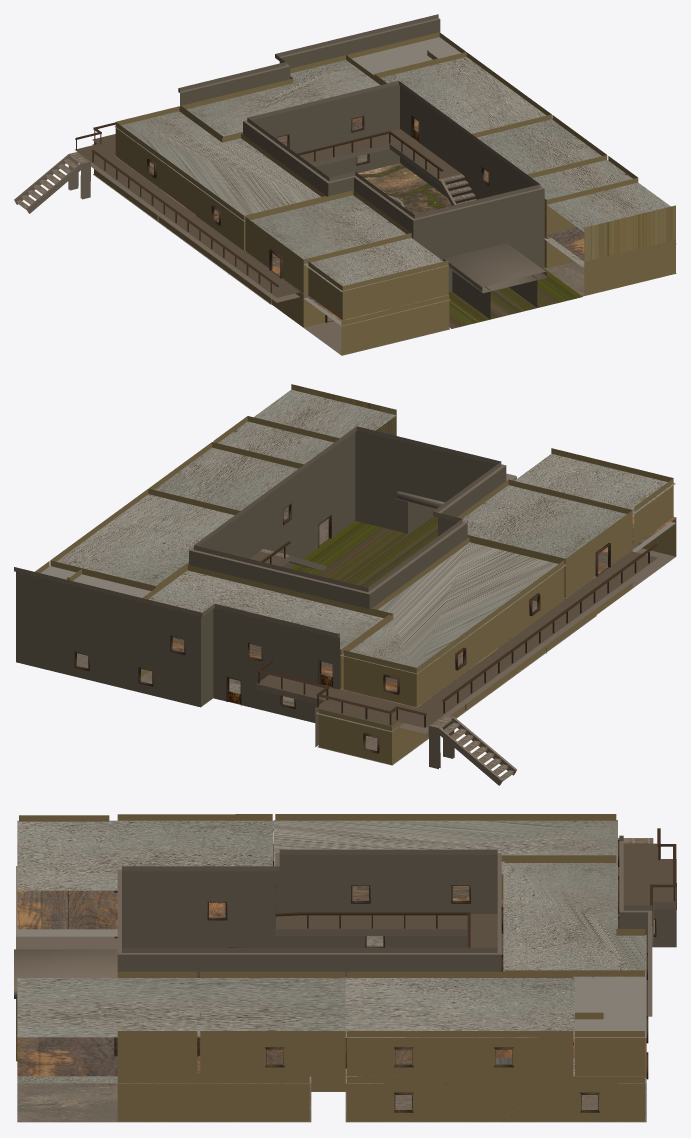
The model's file is level_1.glb.
3 renders of one model, top to bottom at view 1: azimuth 30°, elevation 25°; view 2: azimuth 150°, elevation 25°; view 3: azimuth 270°, elevation 25°, orthographic. The views are drawn at different scales.
Visible parts, largest first — view 1: external_wall_2, inaccesable_f1, inaccesable_f3, room_f1, walkway_2, room_f3, room_f2, inaccesable_g1, ground_courtyard, external_wall_1, inaccesable_g4, walkway_1 (+3 smaller); view 2: external_wall_1, external_wall_2, room_f1, inaccesable_f1, walkway_2, inaccesable_f3, room_f3, room_f2, ground_courtyard, room_g0, inaccesable_g1, inaccesable_f4 (+2 smaller); view 3: external_wall_2, inaccesable_f3, room_f3, inaccesable_f1, room_f2, room_g1, room_f1, inaccesable_g4, inaccesable_f4, walkway_1, walkway_2, external_wall_1 (+1 smaller).
Part boxes in pixels (x1,y1,x2,y2): external_wall_2: (243,81,546,319); inaccesable_f1: (244,190,448,321); inaccesable_f3: (477,115,675,261); room_f1: (114,106,326,249); walkway_2: (14,122,299,302); room_f3: (375,52,552,142); room_f2: (181,55,384,147); inaccesable_g1: (271,279,450,355); ground_courtyard: (358,163,582,328); external_wall_1: (178,14,440,107); inaccesable_g4: (544,233,676,296); walkway_1: (297,129,476,205); external_wall_1: (14,567,339,746); external_wall_2: (189,426,516,609); room_f1: (342,537,565,707); inaccesable_f1: (457,448,676,598); walkway_2: (256,544,657,785); inaccesable_f3: (149,384,396,525); room_f3: (50,488,240,587); room_f2: (142,565,389,689); ground_courtyard: (290,515,437,587); room_g0: (138,667,466,765); inaccesable_g1: (595,518,676,614); inaccesable_f4: (35,561,155,597); external_wall_2: (14,849,501,1031); inaccesable_f3: (17,971,345,1076); room_f3: (345,971,574,1076); inaccesable_f1: (17,814,273,929); room_f2: (501,856,647,979); room_g1: (309,1052,648,1122); room_f1: (273,814,619,906); inaccesable_g4: (17,1076,311,1122); inaccesable_f4: (575,977,646,1076); walkway_1: (275,912,503,954); walkway_2: (273,828,676,947); external_wall_1: (619,835,676,1016).
Size of what is drawn, in the model's own units: 45.41 by 8.92 by 46.27.
13 materials, 13 textured.
